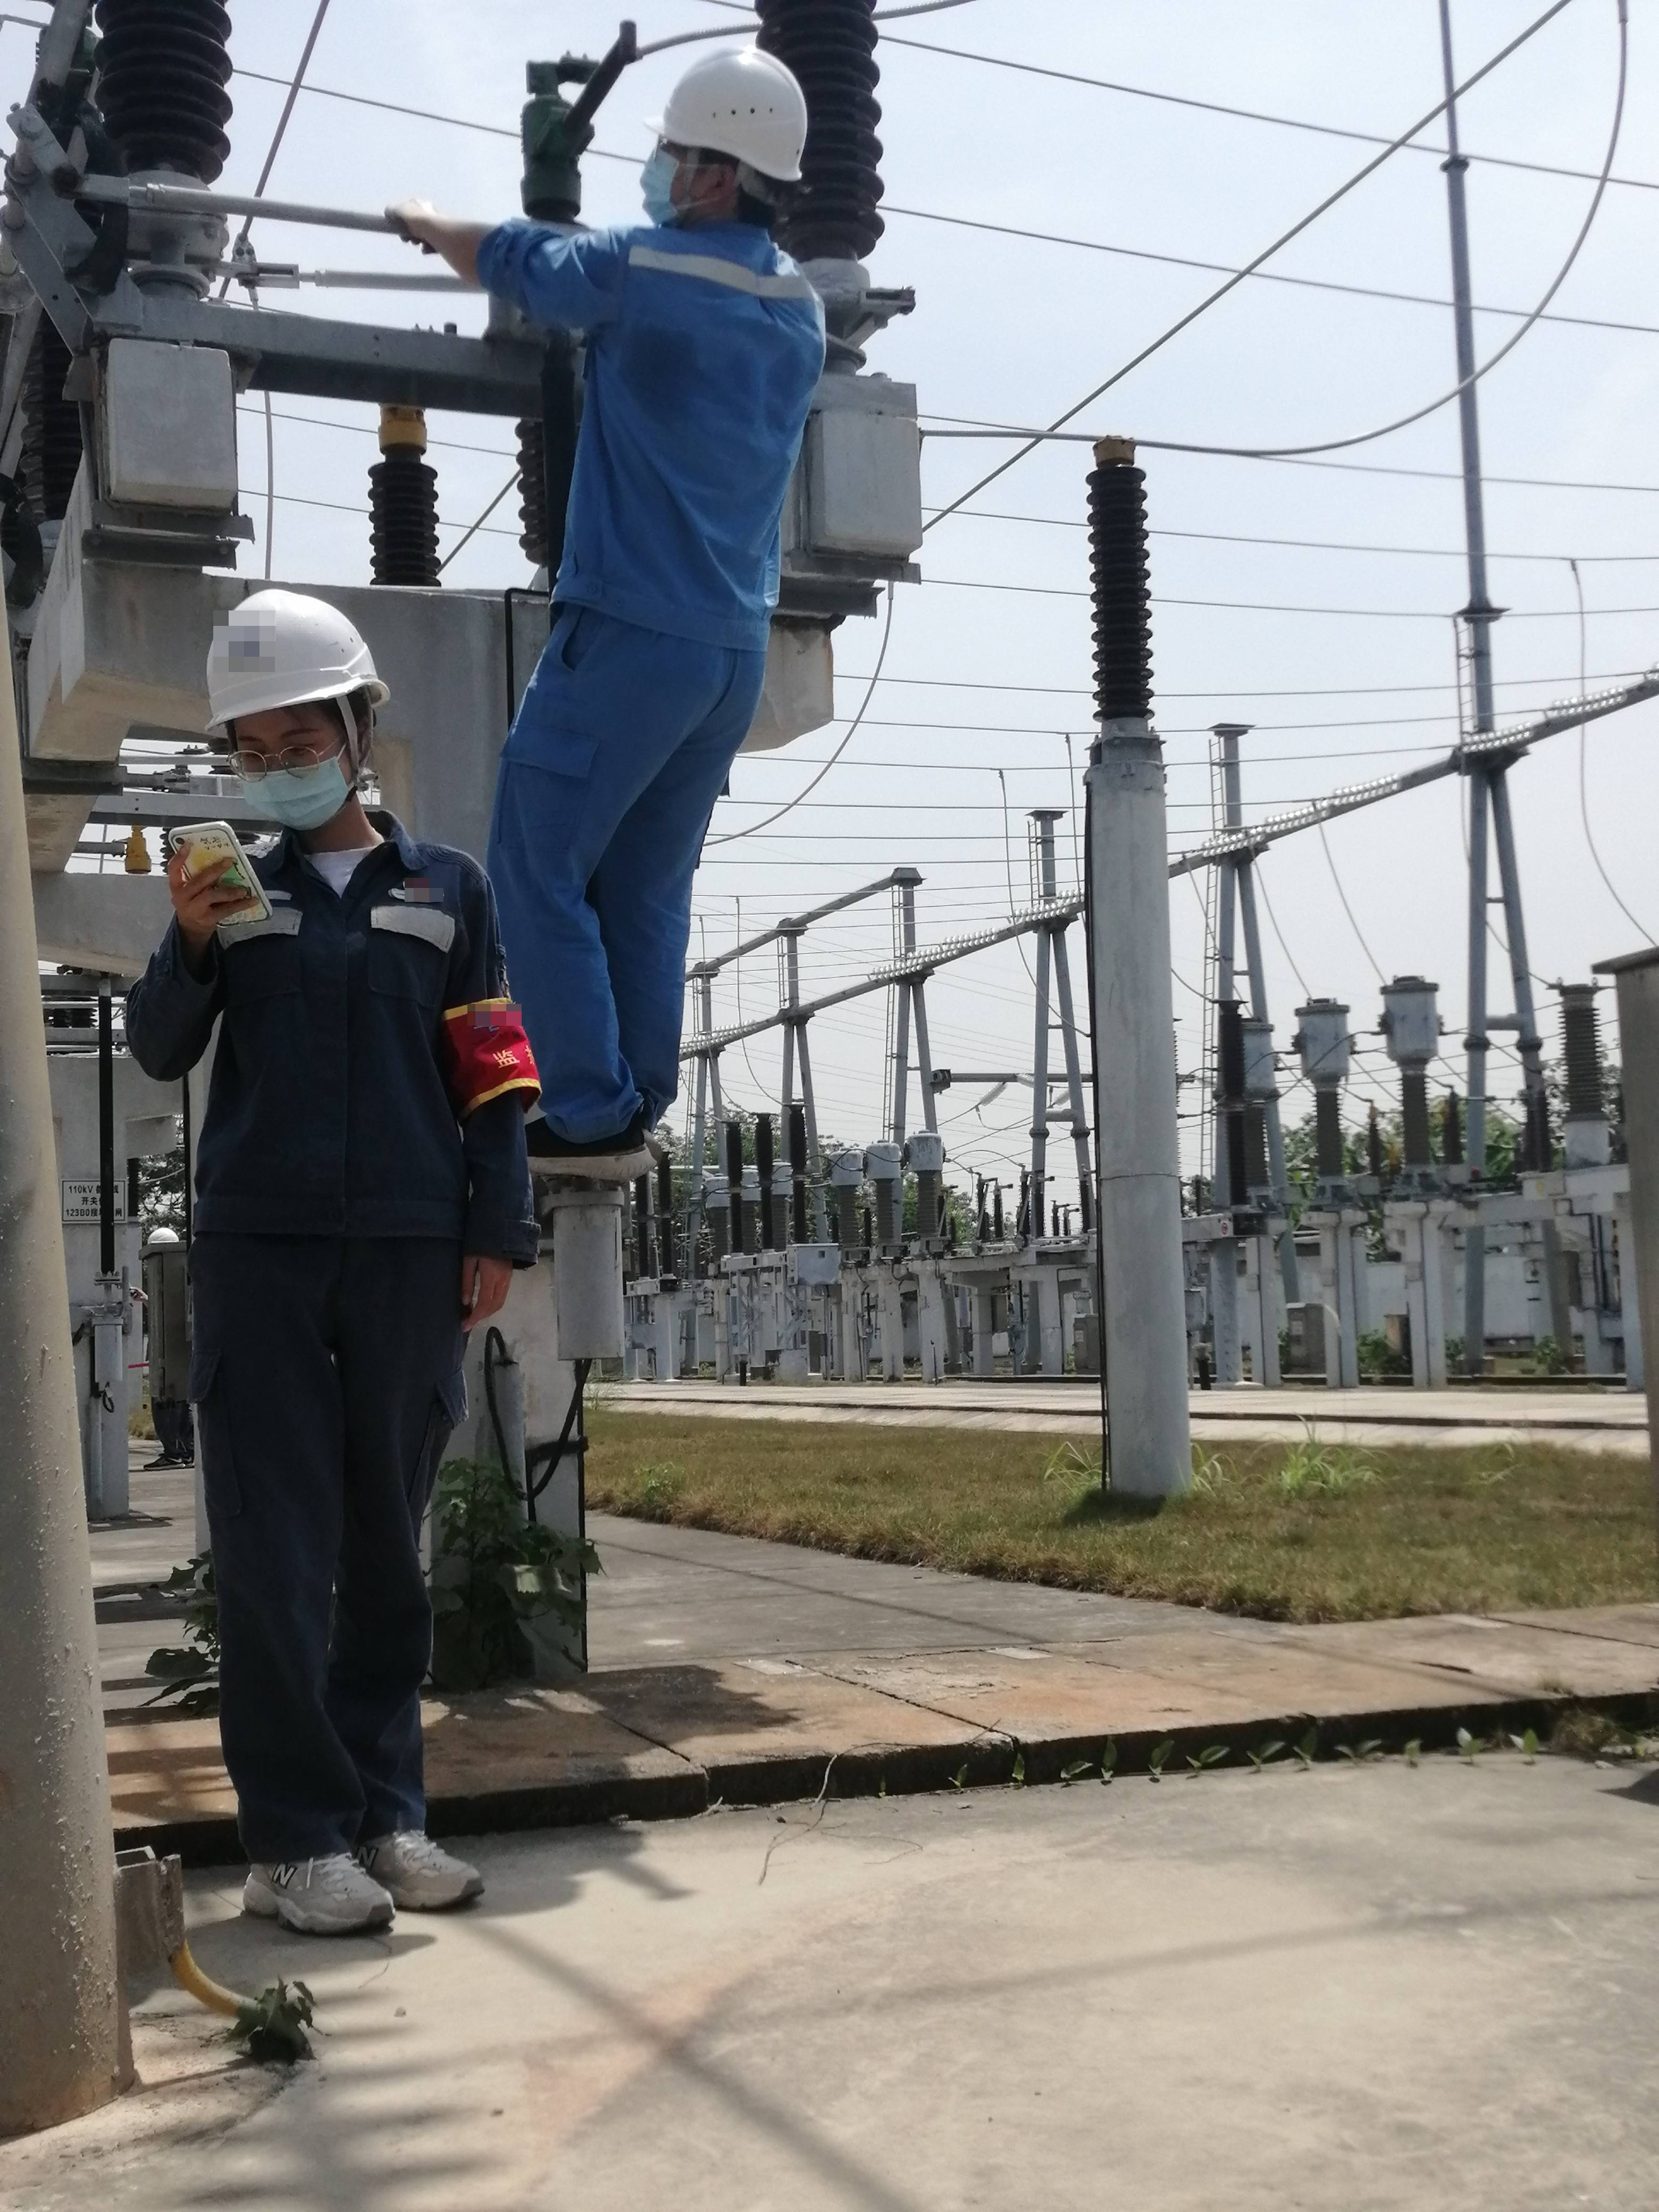downsuit: (186, 1247, 472, 1851), (500, 627, 765, 1137)
upsuit: (134, 810, 538, 1242), (484, 218, 824, 636)
wrongtop: (387, 195, 509, 284)
